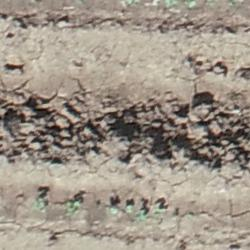cotton: (66, 202, 79, 211), (38, 198, 45, 207), (152, 206, 162, 212), (110, 206, 118, 213), (137, 212, 146, 218), (127, 205, 133, 211)
